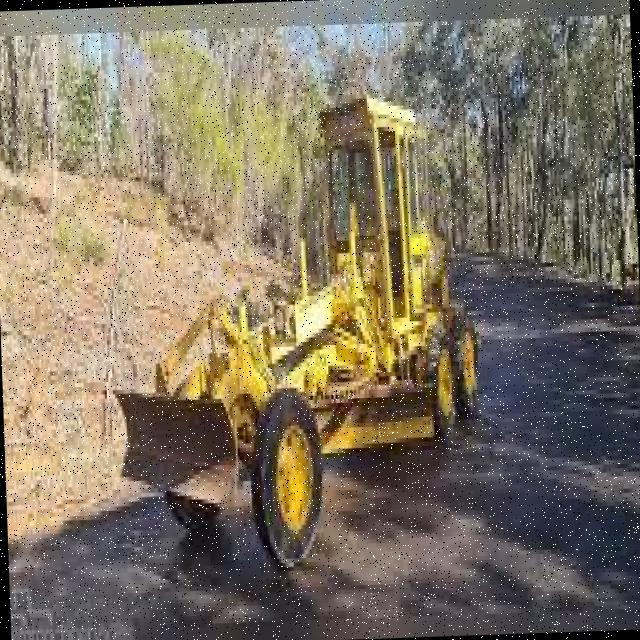Grader: (100, 65, 510, 598)
